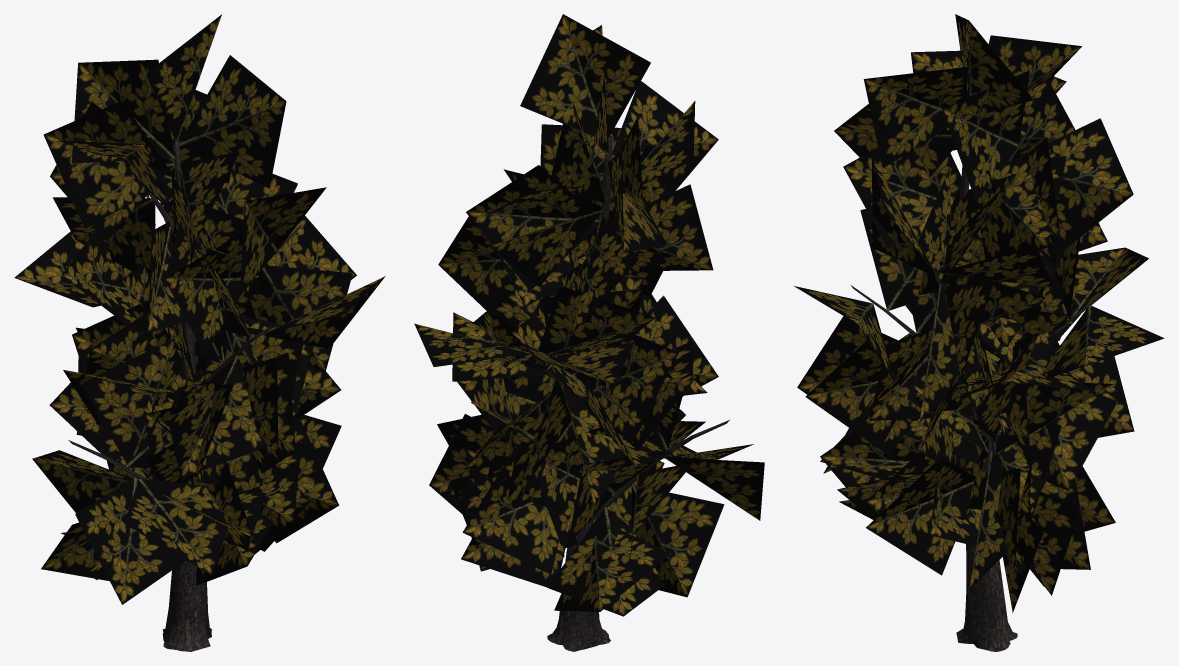
File: tree_7.obj
3 views of the same model, side by side, from view 1: azimuth 30°, elevation 25°; view 2: azimuth 150°, elevation 25°; view 3: azimuth 270°, elevation 25° (orthographic). The views are drawn at different scales.
Parts seen in each view (by area): view 1: tree_7_leaves, tree_7; view 2: tree_7_leaves, tree_7; view 3: tree_7_leaves, tree_7.
Boxes of the visible parts, <box> form: tree_7_leaves: <box>14,14,385,604</box>; tree_7: <box>68,138,301,651</box>; tree_7_leaves: <box>414,14,764,616</box>; tree_7: <box>526,135,729,651</box>; tree_7_leaves: <box>794,14,1164,612</box>; tree_7: <box>851,115,1103,651</box>.
Size of the model in its own units: 4.27 by 8.29 by 4.43.
